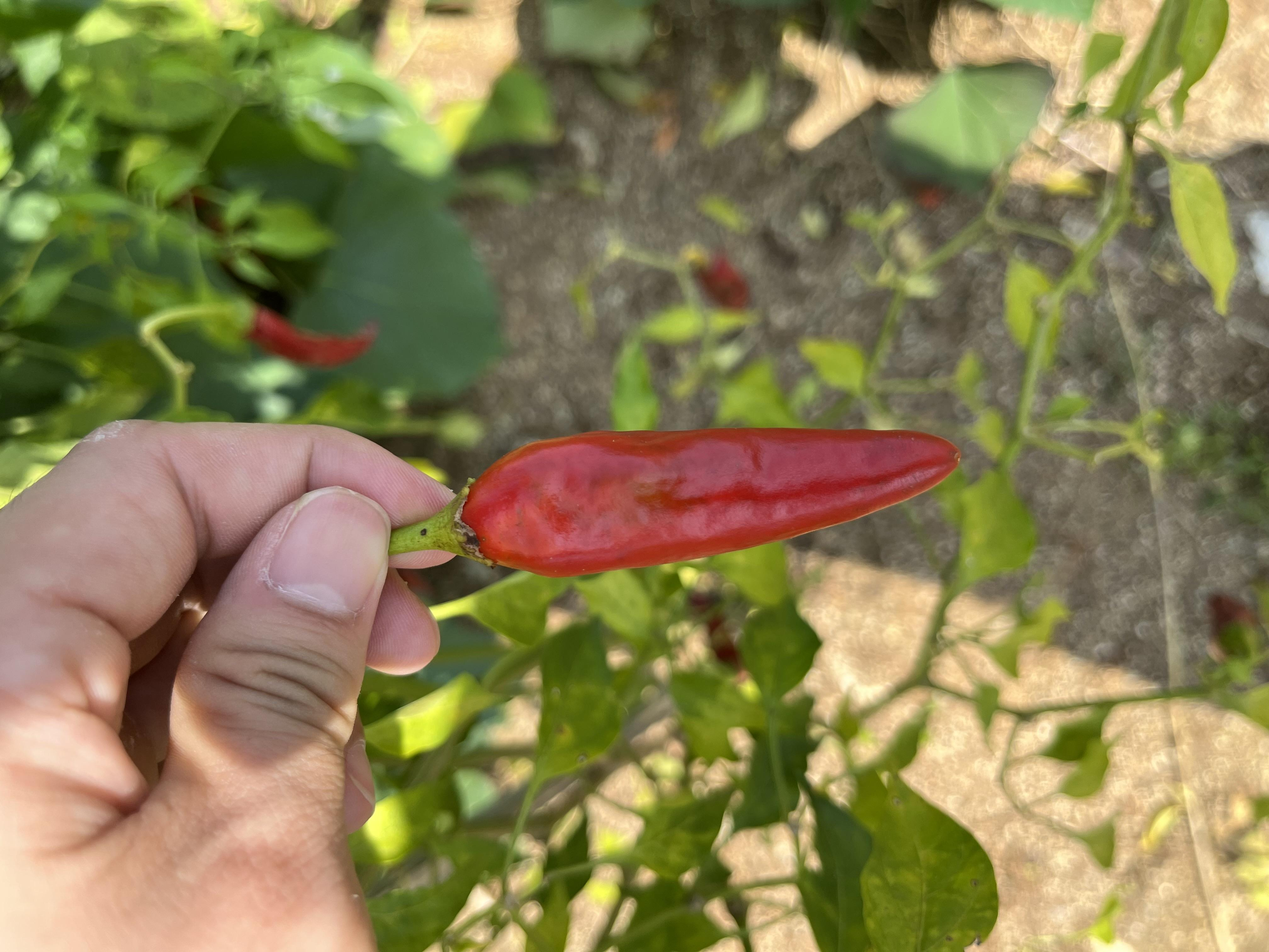Buah Cabai Sehat: (460, 336, 774, 723)
